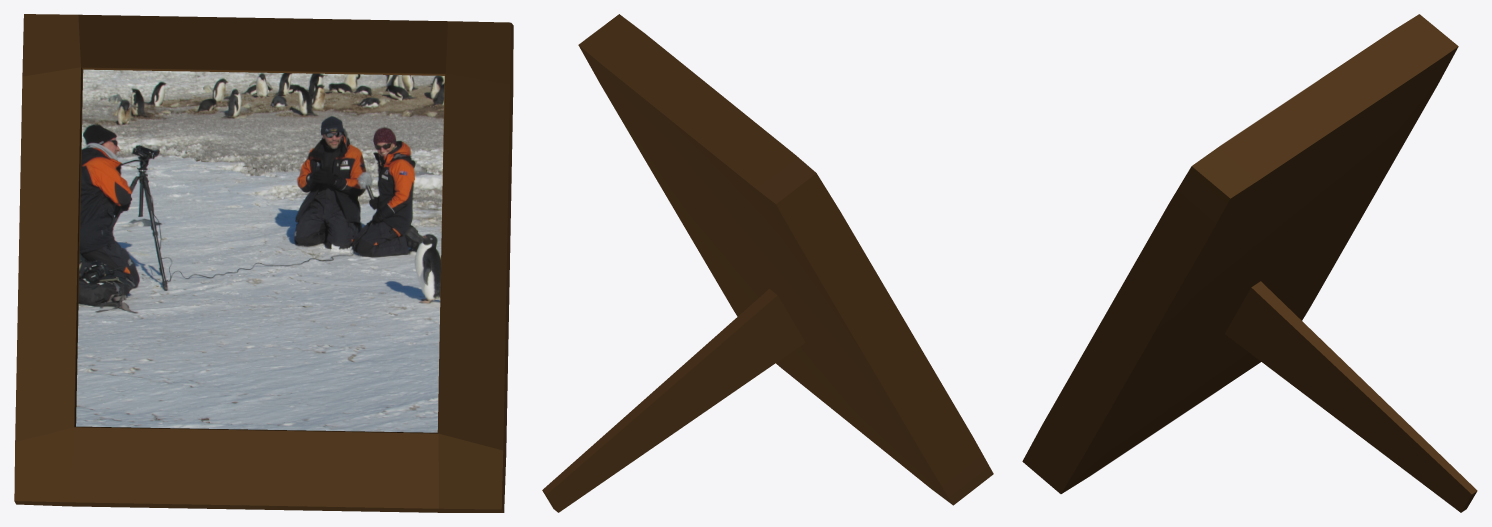
Rendered from cerceve.fbx.
3 renders of one model, left to right at view 1: azimuth 30°, elevation 25°; view 2: azimuth 150°, elevation 25°; view 3: azimuth 270°, elevation 25°, orthographic. The views are drawn at different scales.
Parts seen in each view (by area): view 1: Filming_a_penguin_scientist_in_Antarctica, Cerceve; view 2: Cerceve; view 3: Cerceve.
Boxes of the visible parts, x1,y1,x2,y2 form: Filming_a_penguin_scientist_in_Antarctica: (76,69,444,432); Cerceve: (14,14,513,512); Cerceve: (542,14,993,512); Cerceve: (1022,14,1477,512).
Bounding box in the file's own units: 972 × 830 × 899.
